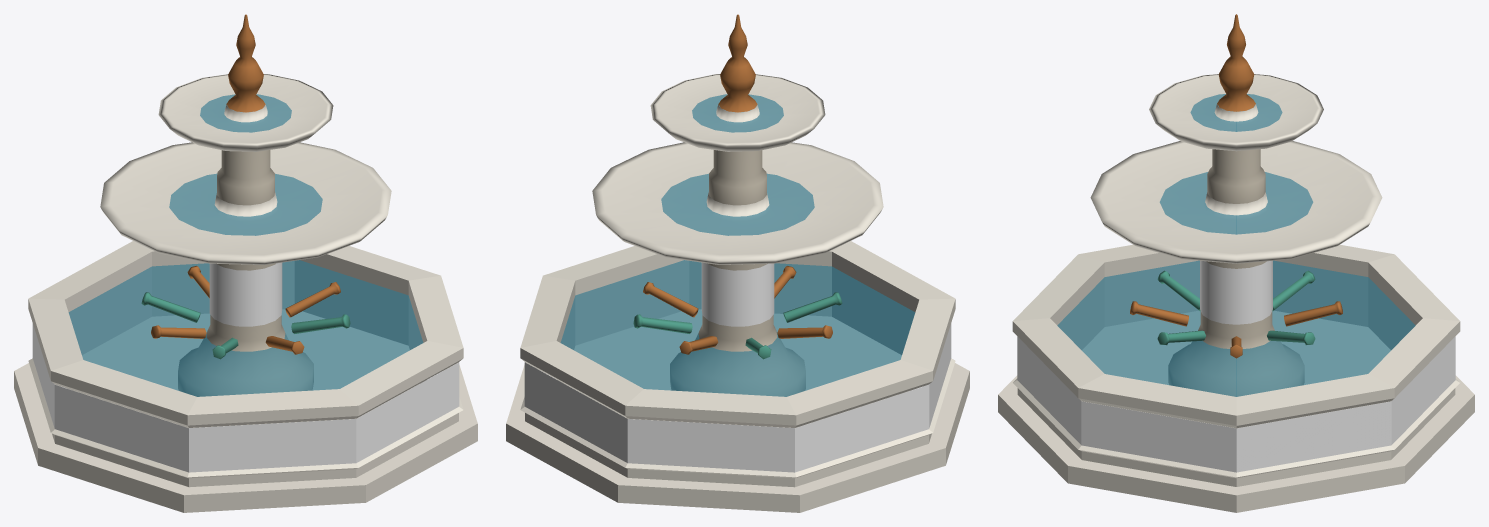
Rendered from fountain-ottoman-lod1.glb.
3 renders of one model, left to right at view 1: azimuth 30°, elevation 25°; view 2: azimuth 150°, elevation 25°; view 3: azimuth 270°, elevation 25°, orthographic.
Visible parts, largest first — view 1: basin, waterBasin, bowlMid, basinBand, column, bowlTop, waterMid, columnBand, finial, waterTop, spout1, spout5 (+2 smaller); view 2: basin, waterBasin, bowlMid, basinBand, column, bowlTop, waterMid, columnBand, finial, waterTop, spout7, spout3 (+2 smaller); view 3: basin, waterBasin, bowlMid, basinBand, column, bowlTop, waterMid, columnBand, finial, waterTop, spout2, spout6.
Part boxes in pixels (x1,y1,x2,y2): basin: [14, 241, 477, 512]; waterBasin: [69, 260, 423, 396]; bowlMid: [100, 142, 391, 264]; basinBand: [32, 323, 459, 472]; column: [178, 150, 313, 396]; bowlTop: [158, 74, 333, 151]; waterMid: [169, 173, 322, 235]; columnBand: [209, 262, 282, 326]; finial: [226, 14, 265, 112]; waterTop: [200, 94, 291, 132]; spout1: [291, 314, 350, 333]; spout5: [141, 292, 200, 322]; basin: [506, 241, 969, 512]; waterBasin: [560, 260, 914, 396]; bowlMid: [592, 142, 883, 264]; basinBand: [524, 323, 951, 472]; column: [670, 150, 805, 396]; bowlTop: [650, 74, 825, 151]; waterMid: [661, 173, 814, 235]; columnBand: [701, 262, 774, 326]; finial: [718, 14, 757, 112]; waterTop: [692, 94, 783, 132]; spout7: [633, 314, 692, 333]; spout3: [783, 292, 842, 322]; basin: [998, 244, 1474, 512]; waterBasin: [1057, 260, 1415, 396]; bowlMid: [1090, 141, 1382, 263]; basinBand: [1017, 336, 1455, 472]; column: [1168, 149, 1304, 396]; bowlTop: [1149, 74, 1323, 151]; waterMid: [1160, 172, 1312, 234]; columnBand: [1200, 261, 1272, 324]; finial: [1217, 14, 1255, 111]; waterTop: [1190, 94, 1282, 131]; spout2: [1130, 301, 1188, 326]; spout6: [1284, 301, 1342, 326].
Size of the model in its own units: 2.94 by 2.71 by 2.94.
